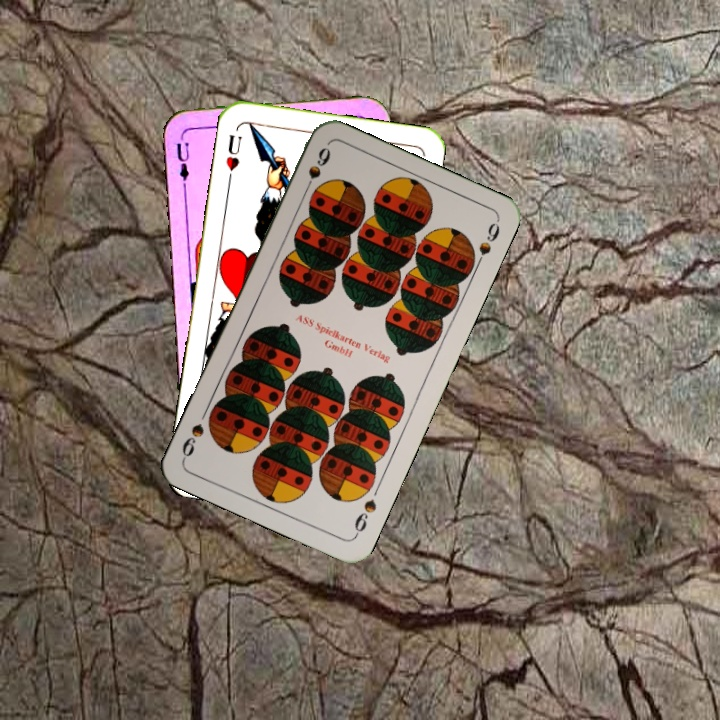EU: (172, 129, 192, 188)
HU: (221, 130, 244, 184)
S9: (299, 143, 333, 198), (350, 495, 379, 539)
